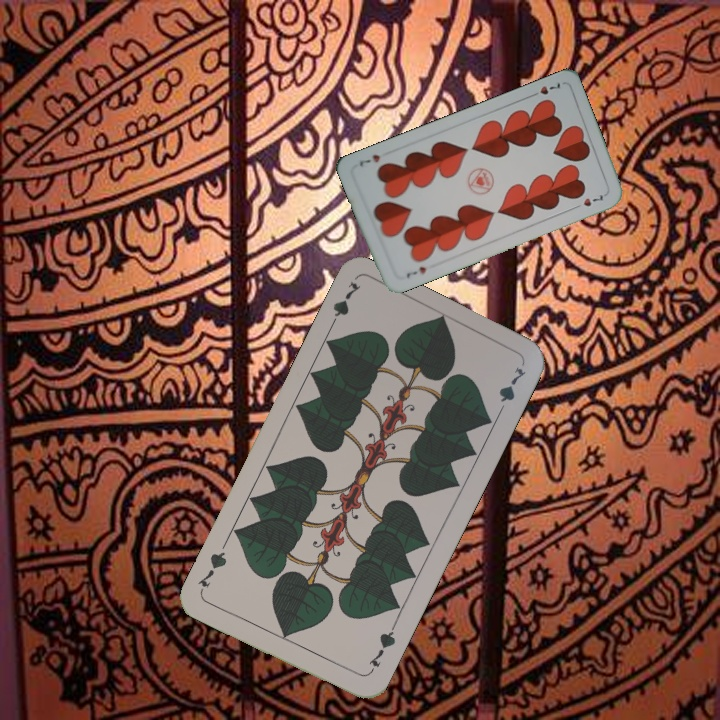G7: (324, 278, 364, 333), (364, 622, 398, 677)
H7: (526, 78, 565, 100), (402, 262, 429, 280)
